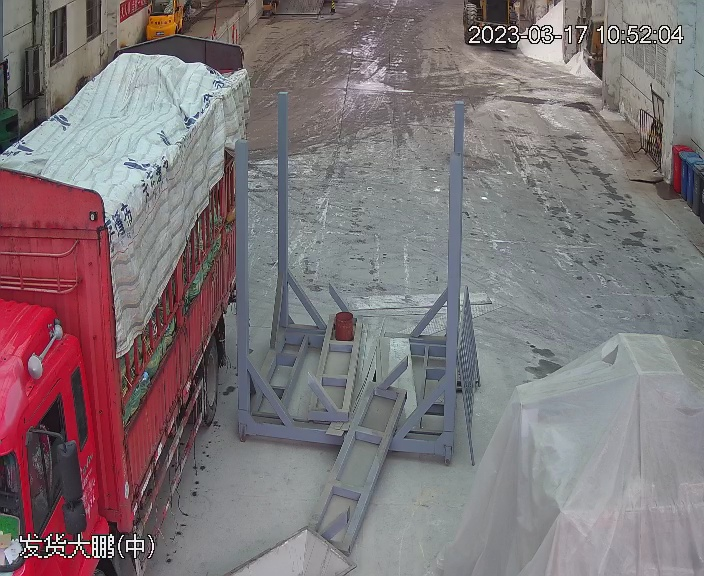truck: (0, 34, 260, 573)
